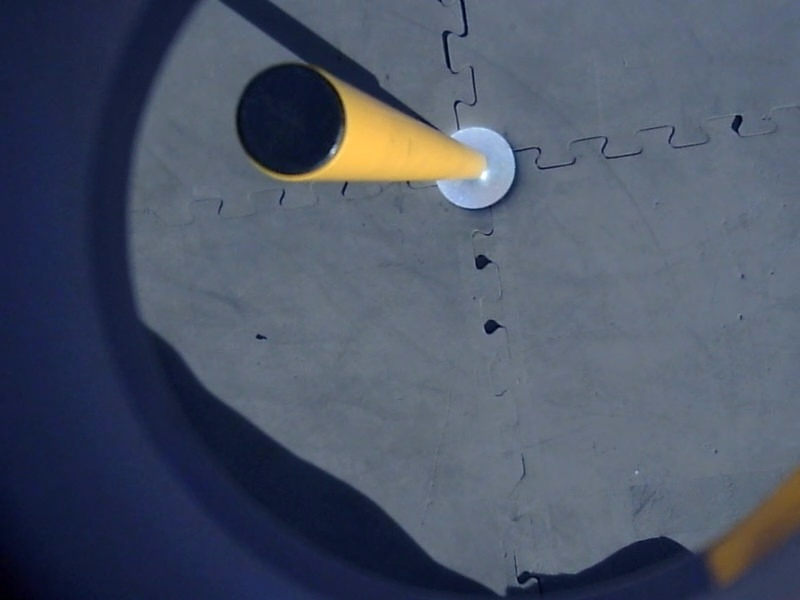tip: (230, 57, 352, 184)
